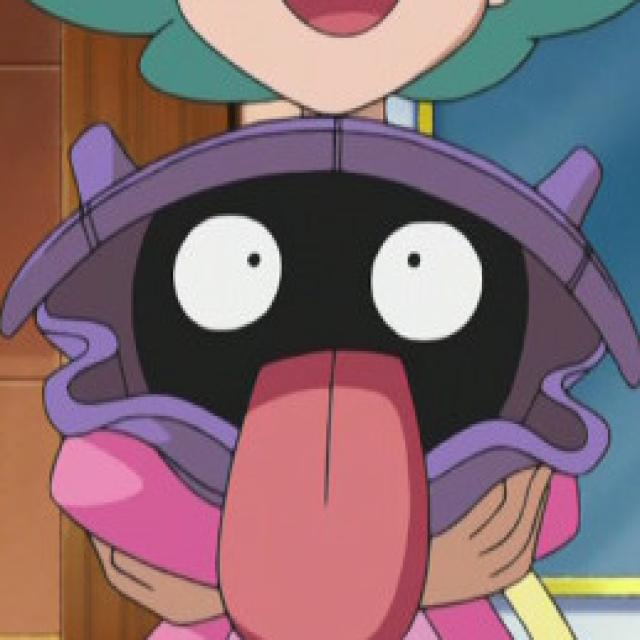Shellder: (12, 112, 624, 640)
